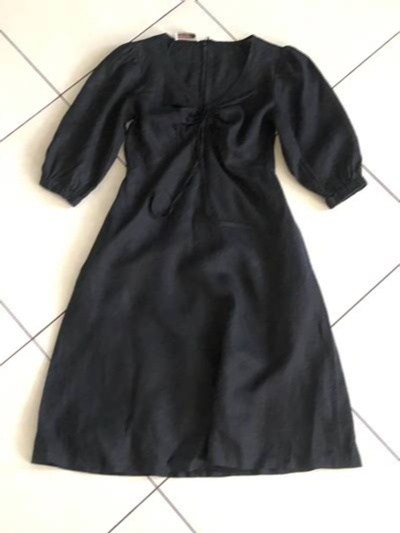Dress: (15, 23, 383, 503)
